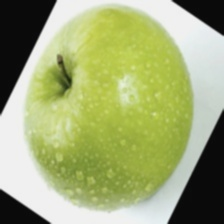apple: (38, 24, 217, 209)
